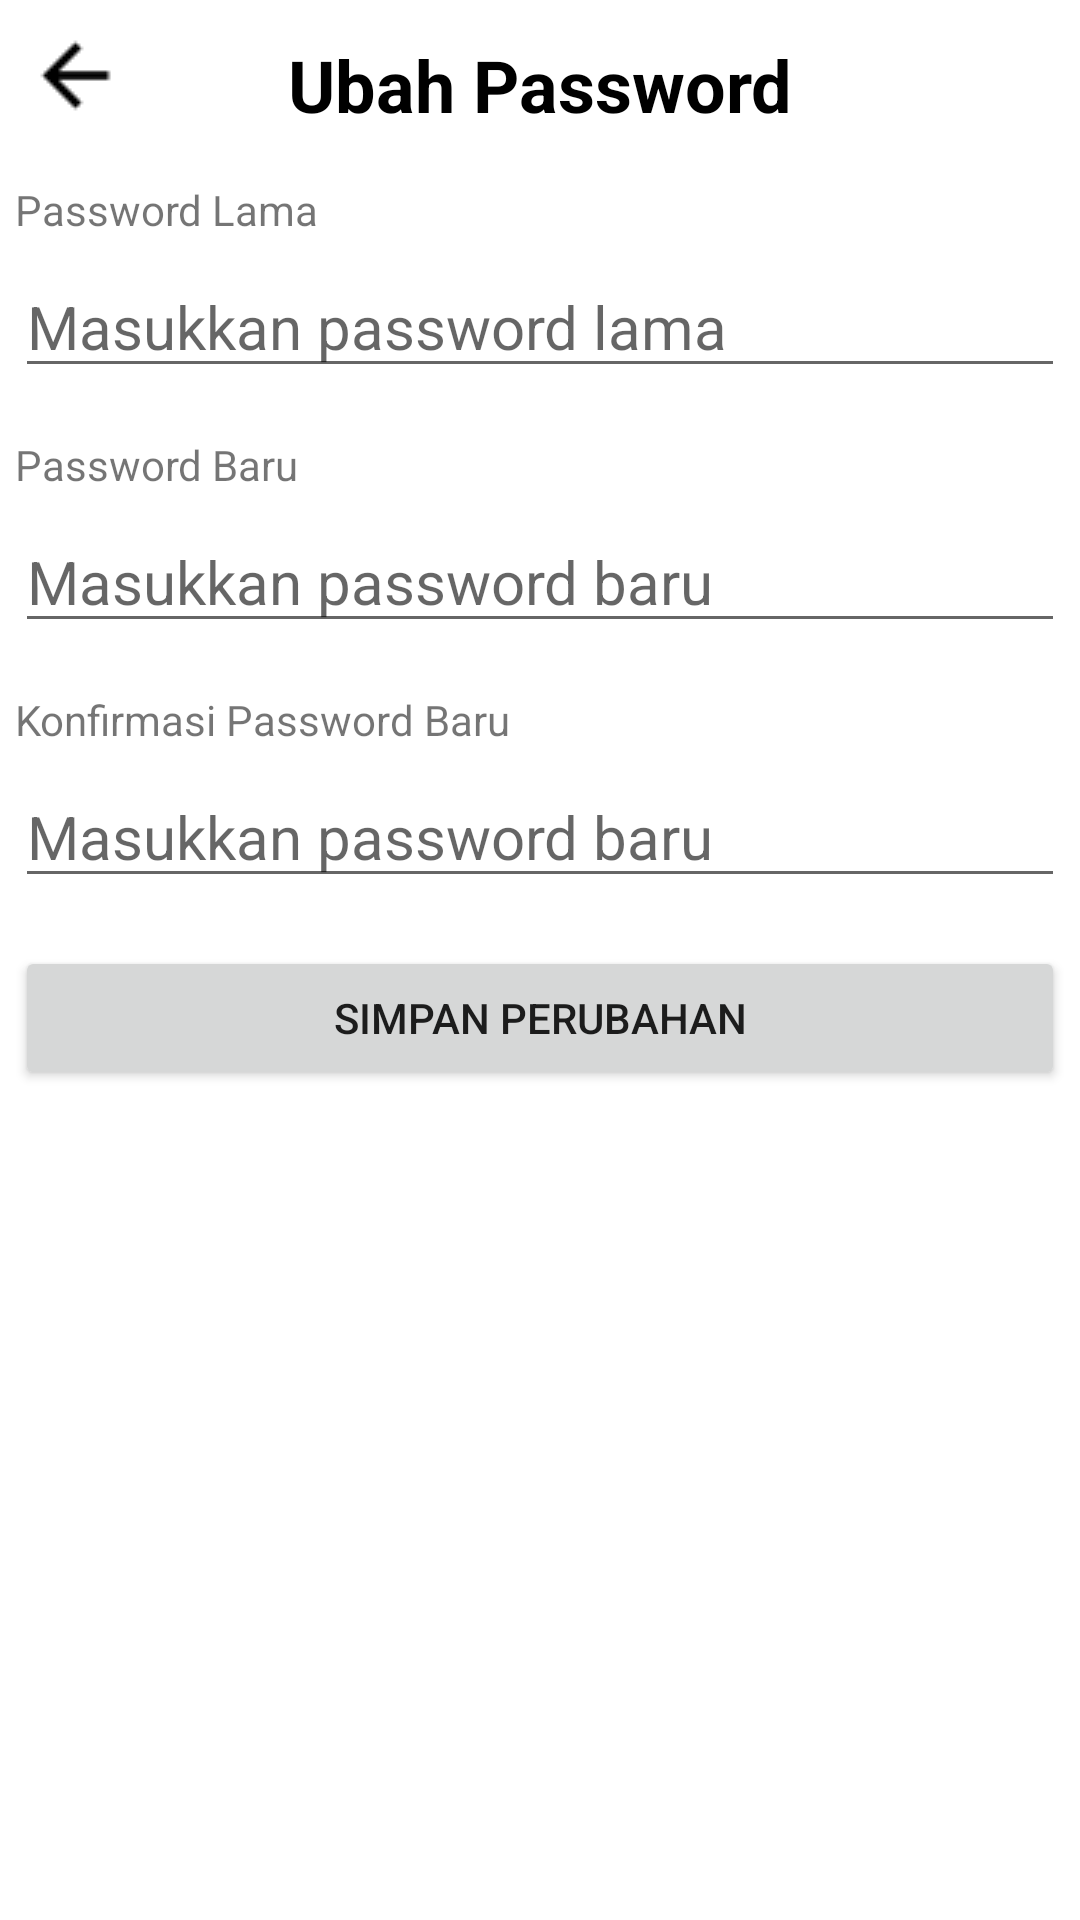

Locate icon controls on the screen. Image size 1080px×1920px, boxes as (x1, y1, x2, y2).
arrow back: (41, 41, 111, 110)
